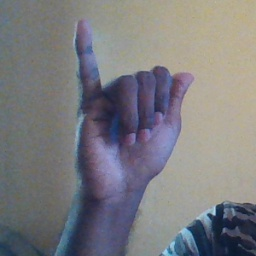J: (67, 19, 199, 184)
